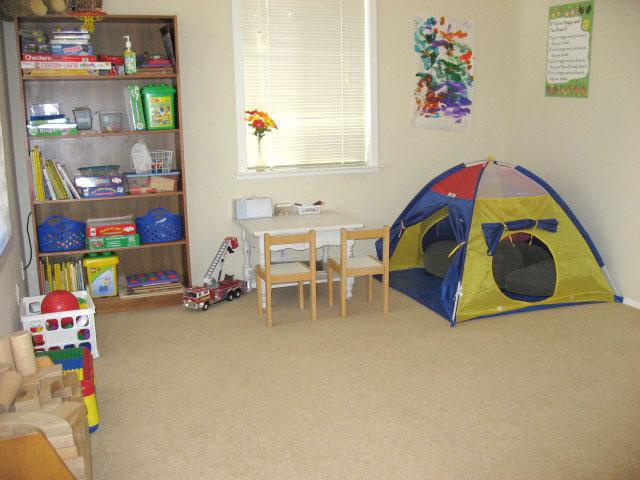Otro Obstaculo: (381, 167, 620, 309), (4, 338, 93, 477), (22, 297, 96, 352)
Ventana: (236, 4, 376, 172)
